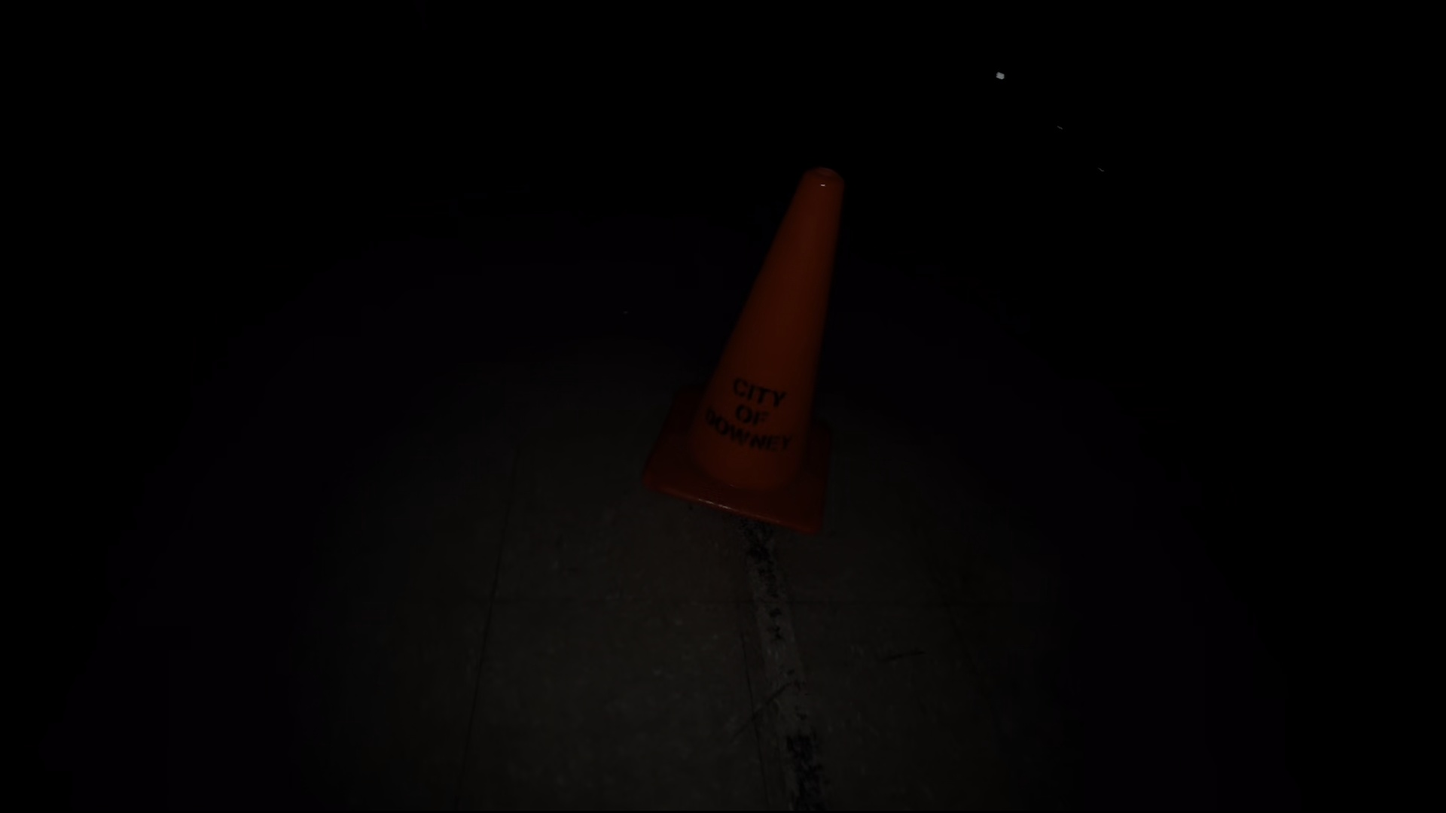traffic_cone: (641, 164, 846, 534)
